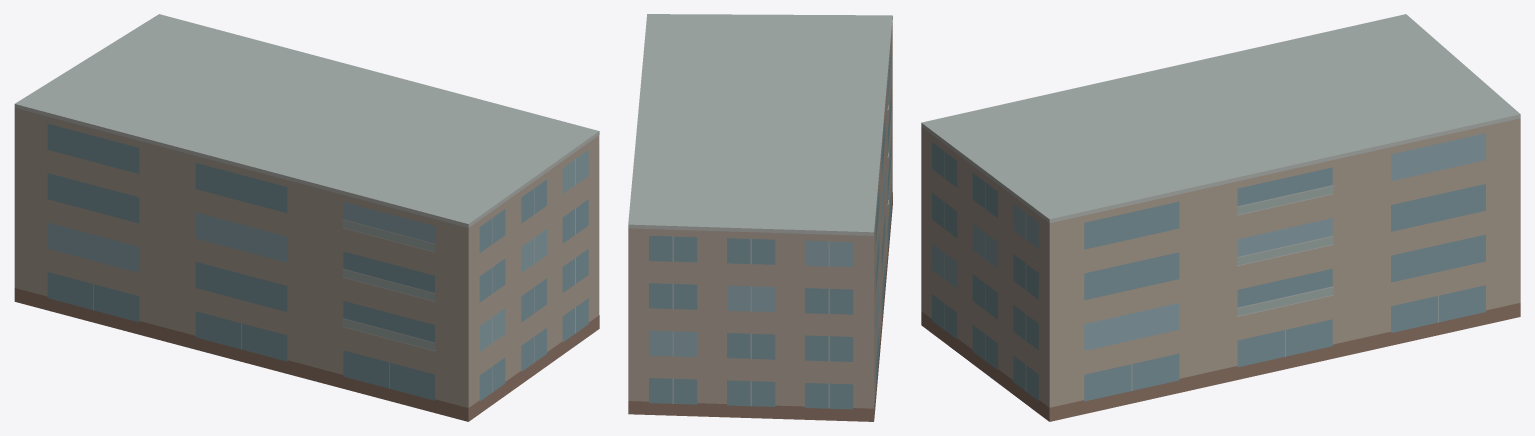
Rendered from survey-upis-32933808.glb.
The picture shows the model from 3 angles, left to right: view 1: azimuth 30°, elevation 25°; view 2: azimuth 150°, elevation 25°; view 3: azimuth 270°, elevation 25°; orthographic projection. The views are drawn at different scales.
Visible parts, largest first — view 1: survey-upis-32933808.tmp; view 2: survey-upis-32933808.tmp; view 3: survey-upis-32933808.tmp.
Boxes of the visible parts, x1=… form: survey-upis-32933808.tmp: x1=14, y1=14, x2=599, y2=421; survey-upis-32933808.tmp: x1=628, y1=14, x2=892, y2=421; survey-upis-32933808.tmp: x1=921, y1=14, x2=1520, y2=421.
Size of the model in its own units: 26.96 by 12.4 by 33.26.
